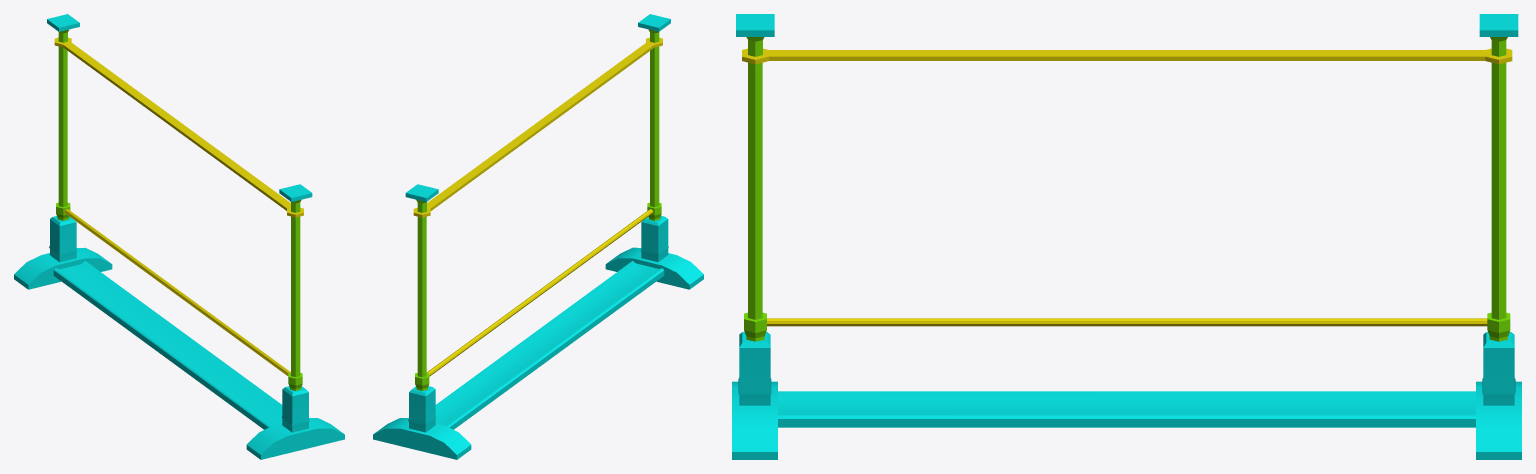
Rendered from CloakHanger_v2.fbx.
3 views of the same model, side by side, from view 1: azimuth 30°, elevation 25°; view 2: azimuth 150°, elevation 25°; view 3: azimuth 270°, elevation 25° (orthographic). The views are drawn at different scales.
Visible parts, largest first — view 1: pCube1, pCylinder3, pCube2, pCube3, pCylinder4, pCube4, pCube7, pCube5, pCube6; view 2: pCube1, pCylinder3, pCube3, pCube2, pCylinder4, pCube4, pCube7, pCube6, pCube5; view 3: pCube1, pCylinder3, pCylinder4, pCube2, pCube3, pCube4, pCube7, pCube6, pCube5.
Boxes of the visible parts, <box> form: pCube1: <box>53,261,282,429</box>; pCylinder3: <box>54,29,303,390</box>; pCube2: <box>246,418,344,459</box>; pCube3: <box>14,247,112,289</box>; pCylinder4: <box>64,209,290,376</box>; pCube4: <box>281,386,309,432</box>; pCube7: <box>49,216,77,262</box>; pCube5: <box>279,184,312,201</box>; pCube6: <box>47,14,79,31</box>; pCube1: <box>435,261,664,429</box>; pCylinder3: <box>413,29,662,390</box>; pCube3: <box>373,418,471,459</box>; pCube2: <box>605,247,703,289</box>; pCylinder4: <box>427,209,652,376</box>; pCube4: <box>640,216,668,262</box>; pCube7: <box>408,386,436,432</box>; pCube6: <box>405,184,438,201</box>; pCube5: <box>638,14,670,31</box>; pCube1: <box>778,391,1475,427</box>; pCylinder3: <box>742,37,1512,341</box>; pCylinder4: <box>767,318,1487,326</box>; pCube2: <box>732,381,777,459</box>; pCube3: <box>1476,381,1521,459</box>; pCube4: <box>738,332,771,405</box>; pCube7: <box>1482,332,1515,405</box>; pCube6: <box>1479,14,1518,36</box>; pCube5: <box>736,14,774,36</box>.
Size of the model in its own units: 1.5 by 4.33 by 7.65.
